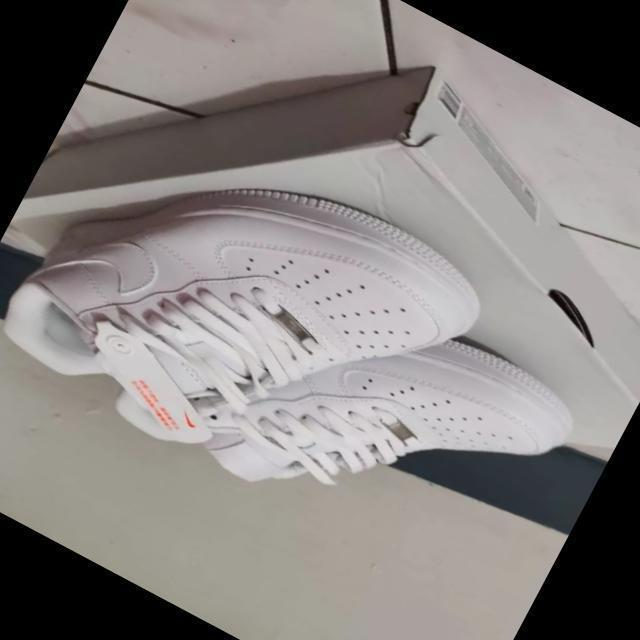nike original air force: (0, 69, 498, 540), (151, 226, 594, 606)
